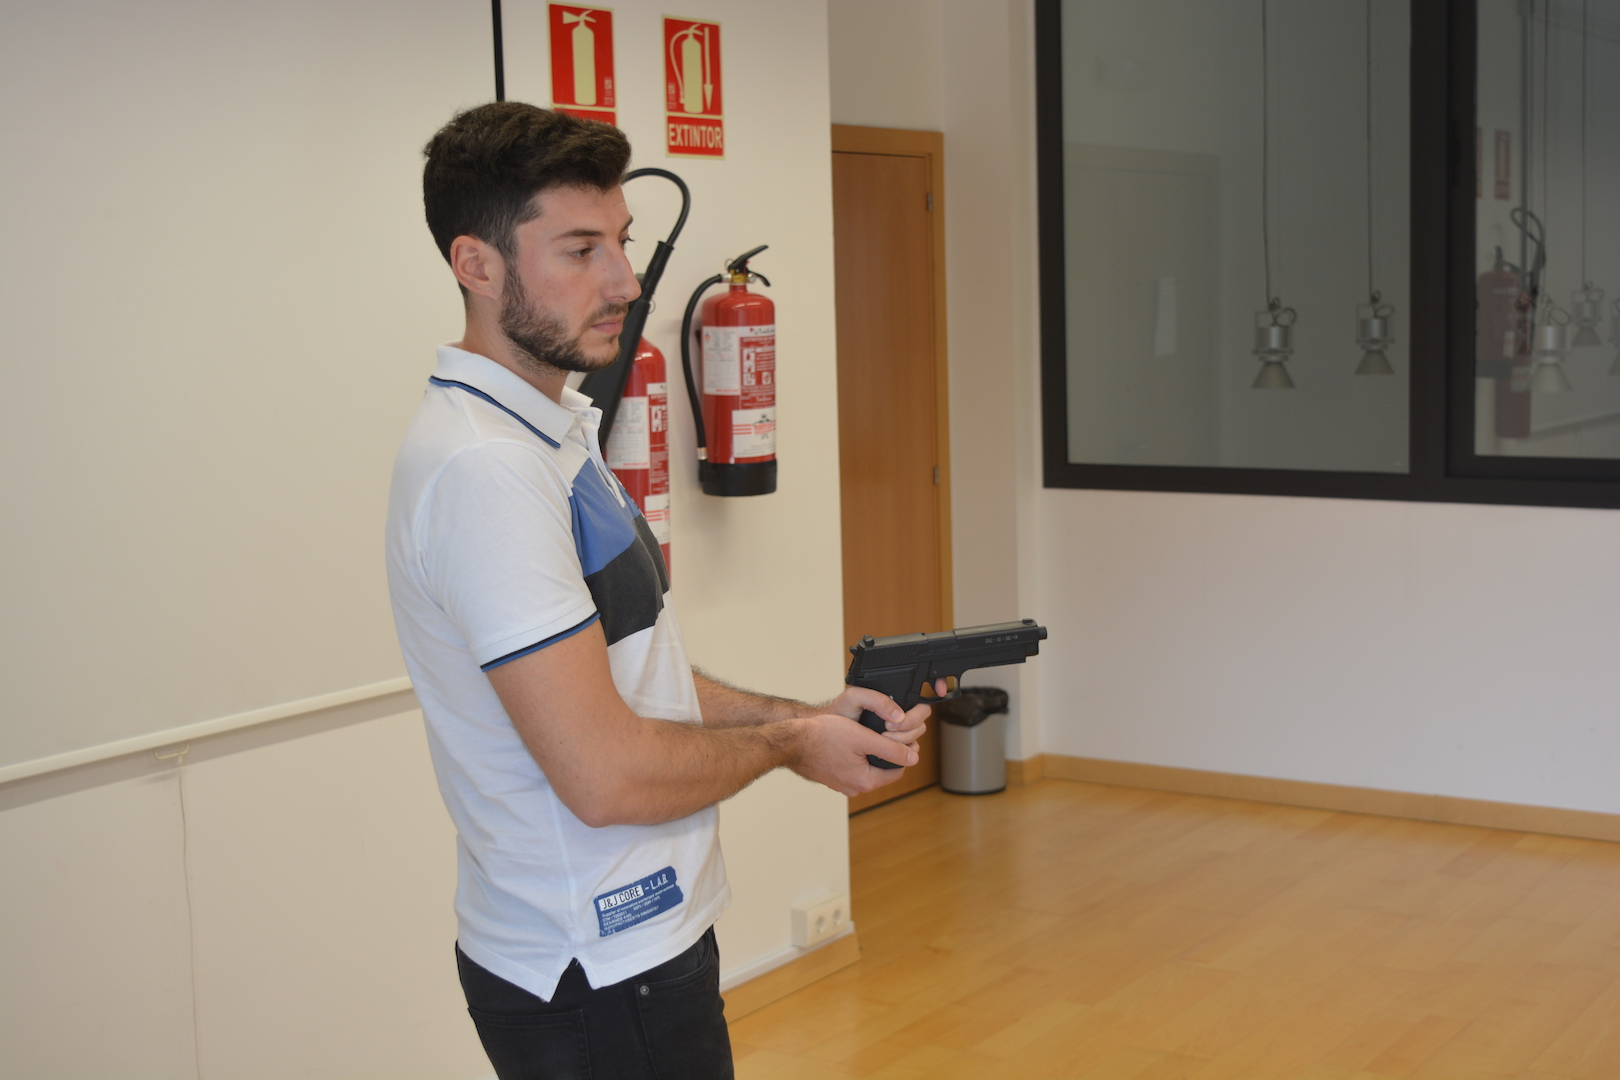pistol: (844, 617, 1047, 771)
